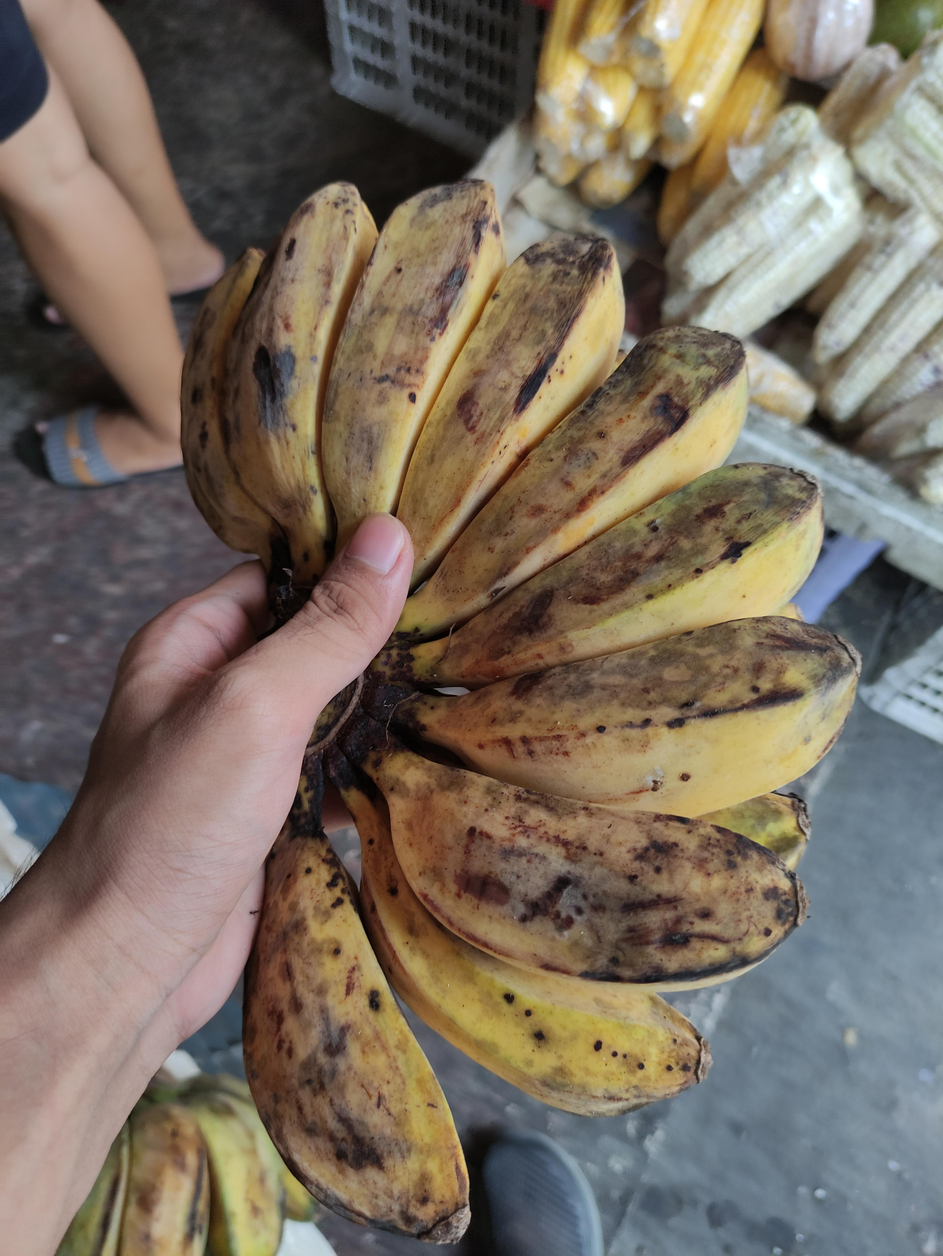ripe: (183, 181, 859, 1242)
